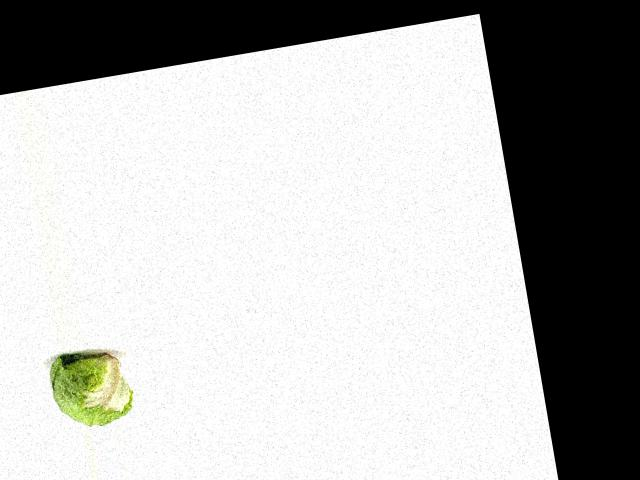lettuce: (43, 340, 138, 432)
